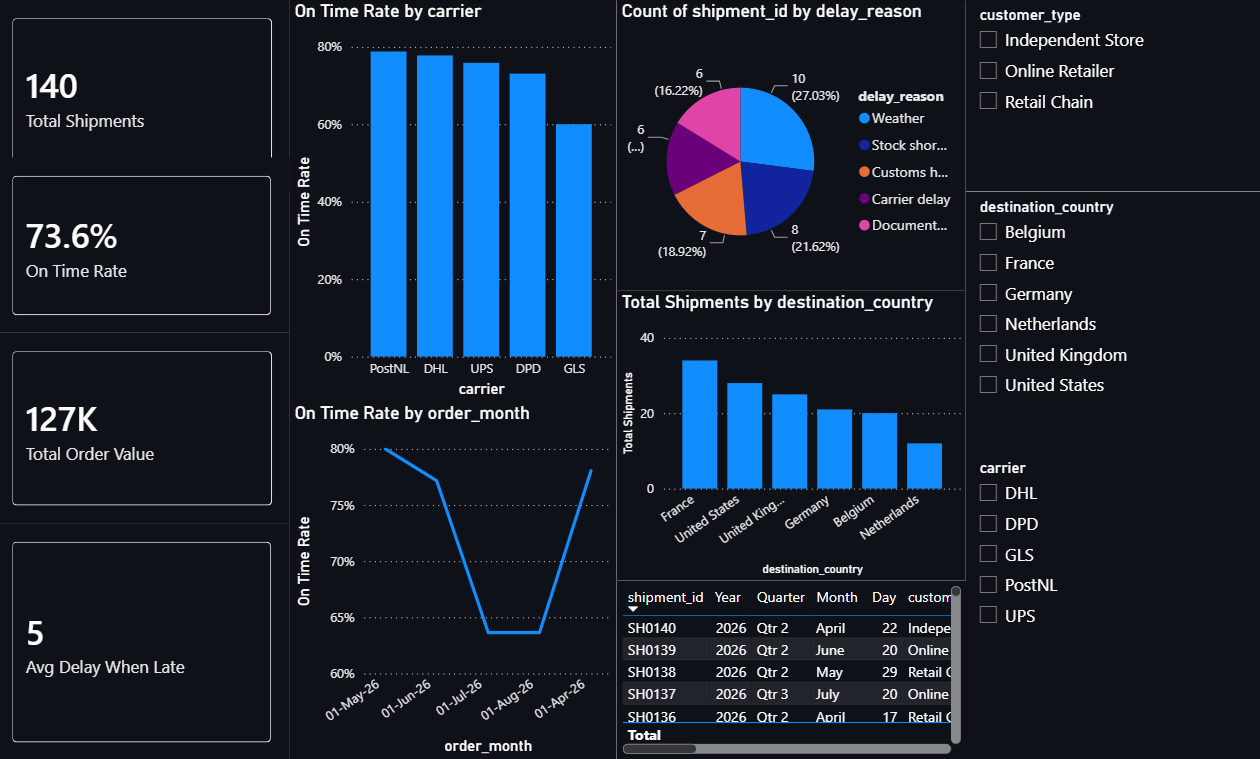

The page's visual inventory and layout, read from the dashboard file:
{"tool":"powerbi","page":{"name":"Page 1","canvas":[1280,720],"ordinal":0},"visuals":[{"type":"cardVisual","fields":{"Data":["bertus_shipments_raw.Total Shipments"]},"box":[9.6,0,280.1,180.7],"z":0},{"type":"cardVisual","fields":{"Data":["bertus_shipments_raw.On Time Rate"]},"box":[0,149.6,280,280],"z":1},{"type":"cardVisual","fields":{"Data":["bertus_shipments_raw.Avg Delay When Late"]},"box":[0,500.4,280.1,219.1],"z":2},{"type":"cardVisual","fields":{"Data":["bertus_shipments_raw.Total Order Value"]},"box":[300.5,0,280.1,180.7],"z":3},{"type":"clusteredColumnChart","fields":{"Category":["bertus_shipments_raw.carrier"],"Y":["bertus_shipments_raw.On Time Rate"]},"box":[289.7,149.6,280,280],"z":4},{"type":"lineChart","fields":{"Category":["bertus_shipments_raw.order_month"],"Y":["bertus_shipments_raw.On Time Rate"]},"box":[300.5,429.7,280.1,289.7],"z":5},{"type":"pieChart","fields":{"Category":["bertus_shipments_raw.delay_reason"],"Y":["CountNonNull(bertus_shipments_raw.shipment_id)"]},"box":[590,0,280,181],"z":6},{"type":"clusteredColumnChart","fields":{"Category":["bertus_shipments_raw.destination_country"],"Y":["bertus_shipments_raw.Total Shipments"]},"box":[590,181,280,249],"z":7},{"type":"slicer","fields":{"Values":["bertus_shipments_raw.carrier"]},"box":[590,430,280,290],"z":8},{"type":"slicer","fields":{"Values":["bertus_shipments_raw.customer_type"]},"box":[880,0,280,181],"z":9},{"type":"slicer","fields":{"Values":["bertus_shipments_raw.destination_country"]},"box":[880,181,280,249],"z":10},{"type":"tableEx","fields":{"Values":["bertus_shipments_raw.shipment_id","bertus_shipments_raw.order_date.Variation.Date Hierarchy.Year","bertus_shipments_raw.order_date.Variation.Date Hierarchy.Quarter","bertus_shipments_raw.order_date.Variation.Date Hierarchy.Month","bertus_shipments_raw.order_date.Variation.Date Hierarchy.Day","bertus_shipments_raw.customer_type","bertus_shipments_raw.destination_country","bertus_shipments_raw.carrier","bertus_shipments_raw.promised_delivery_date.Variation.Date Hierarchy.Year","bertus_shipments_raw.promised_delivery_date.Variation.Date Hierarchy.Quarter","bertus_shipments_raw.promised_delivery_date.Variation.Date Hierarchy.Month","bertus_shipments_raw.promised_delivery_date.Variation.Date Hierarchy.Day"]},"box":[880,430,280,290],"z":11}]}

Visuals, with their boxes on the page's 1280x720 design canvas (x1, y1, x2, y2). These are canvas units, not pixel positions in the 1260x759 screenshot, which may show the page scaled, cropped or inside an application window:
cardVisual - bertus_shipments_raw.Total Shipments: {"left": 10, "top": 0, "right": 290, "bottom": 181}
cardVisual - bertus_shipments_raw.On Time Rate: {"left": 0, "top": 150, "right": 280, "bottom": 430}
cardVisual - bertus_shipments_raw.Avg Delay When Late: {"left": 0, "top": 500, "right": 280, "bottom": 720}
cardVisual - bertus_shipments_raw.Total Order Value: {"left": 300, "top": 0, "right": 581, "bottom": 181}
clusteredColumnChart - bertus_shipments_raw.carrier x bertus_shipments_raw.On Time Rate: {"left": 290, "top": 150, "right": 570, "bottom": 430}
lineChart - bertus_shipments_raw.order_month x bertus_shipments_raw.On Time Rate: {"left": 300, "top": 430, "right": 581, "bottom": 719}
pieChart - bertus_shipments_raw.delay_reason x CountNonNull(bertus_shipments_raw.shipment_id): {"left": 590, "top": 0, "right": 870, "bottom": 181}
clusteredColumnChart - bertus_shipments_raw.destination_country x bertus_shipments_raw.Total Shipments: {"left": 590, "top": 181, "right": 870, "bottom": 430}
slicer - bertus_shipments_raw.carrier: {"left": 590, "top": 430, "right": 870, "bottom": 720}
slicer - bertus_shipments_raw.customer_type: {"left": 880, "top": 0, "right": 1160, "bottom": 181}
slicer - bertus_shipments_raw.destination_country: {"left": 880, "top": 181, "right": 1160, "bottom": 430}
tableEx - bertus_shipments_raw.shipment_id x bertus_shipments_raw.order_date.Variation.Date Hierarchy.Year: {"left": 880, "top": 430, "right": 1160, "bottom": 720}
